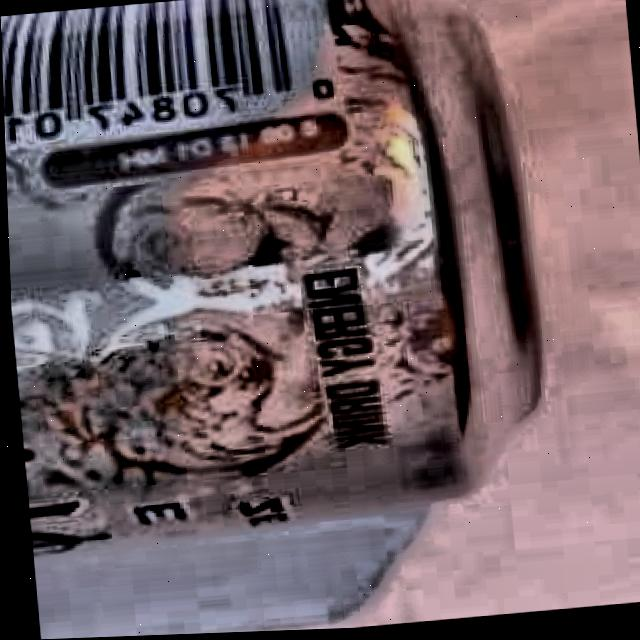metal: (0, 0, 537, 562)
